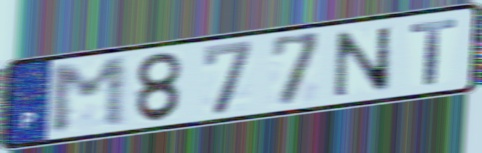7: (200, 37, 257, 118), (269, 30, 324, 110)
8: (134, 50, 185, 123)
M: (48, 54, 130, 137)
N: (333, 24, 395, 100)
T: (407, 16, 459, 88)
